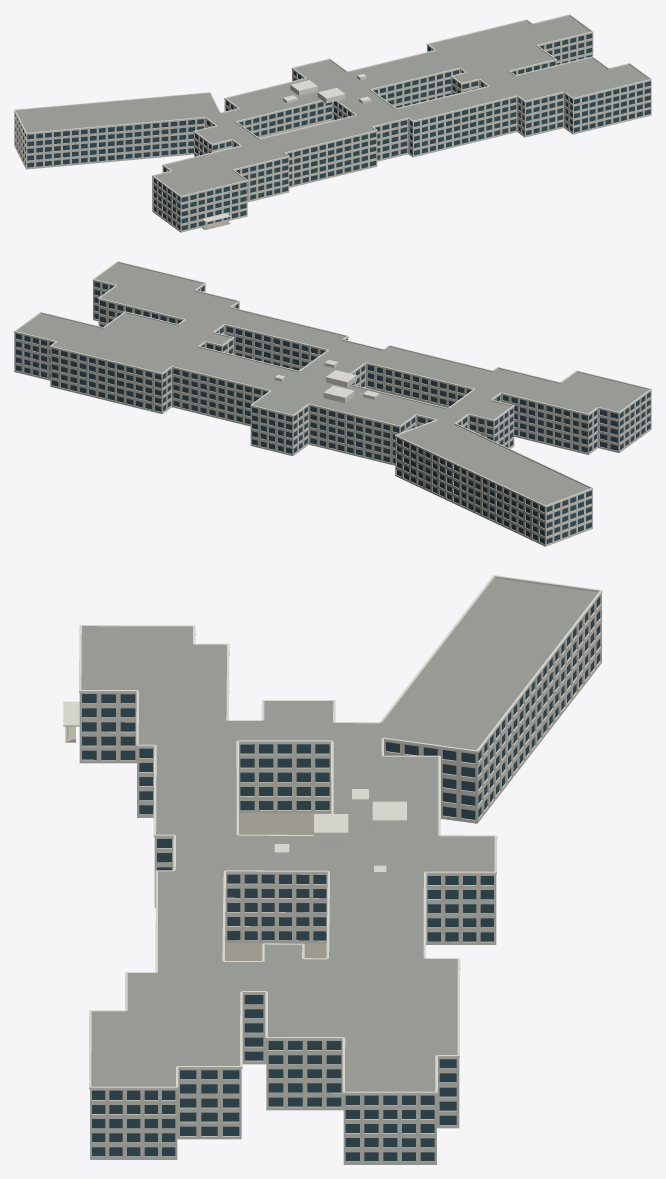
Rendered from teaching1.far.glb.
3 renders of one model, top to bottom at view 1: azimuth 30°, elevation 25°; view 2: azimuth 150°, elevation 25°; view 3: azimuth 270°, elevation 25°, orthographic. The views are drawn at different scales.
Visible parts, largest first — view 1: roof, wall, glass, trim; view 2: roof, wall, glass, trim; view 3: roof, wall, glass, trim, paving.
Part boxes in pixels (x1,y1,x2,y2): roof: (16,16,648,195); wall: (14,33,651,232); glass: (15,33,650,230); trim: (14,14,651,228); roof: (17,263,648,505); wall: (14,280,651,546); glass: (15,281,650,543); trim: (14,261,651,507); roof: (81,578,598,1091); wall: (79,594,601,1164); glass: (82,597,599,1161); trim: (63,575,602,1094); paving: (225,813,331,960).
Bounding box in the file's own units: 250 × 18.7 × 110.
